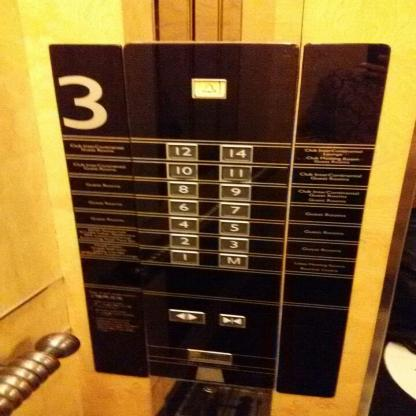1: (169, 249, 199, 266)
10: (165, 161, 198, 181)
11: (218, 164, 252, 183)
12: (164, 142, 198, 160)
14: (218, 144, 253, 163)
2: (168, 233, 199, 250)
3: (216, 235, 249, 254)
4: (168, 216, 198, 234)
5: (216, 219, 250, 237)
6: (166, 199, 200, 216)
7: (217, 201, 251, 219)
8: (166, 180, 200, 197)
9: (218, 183, 251, 201)
M: (217, 252, 249, 270)
alarm: (189, 78, 226, 100)
close: (218, 312, 245, 329)
led: (293, 43, 391, 145), (48, 45, 129, 138)
open: (167, 308, 205, 325)
